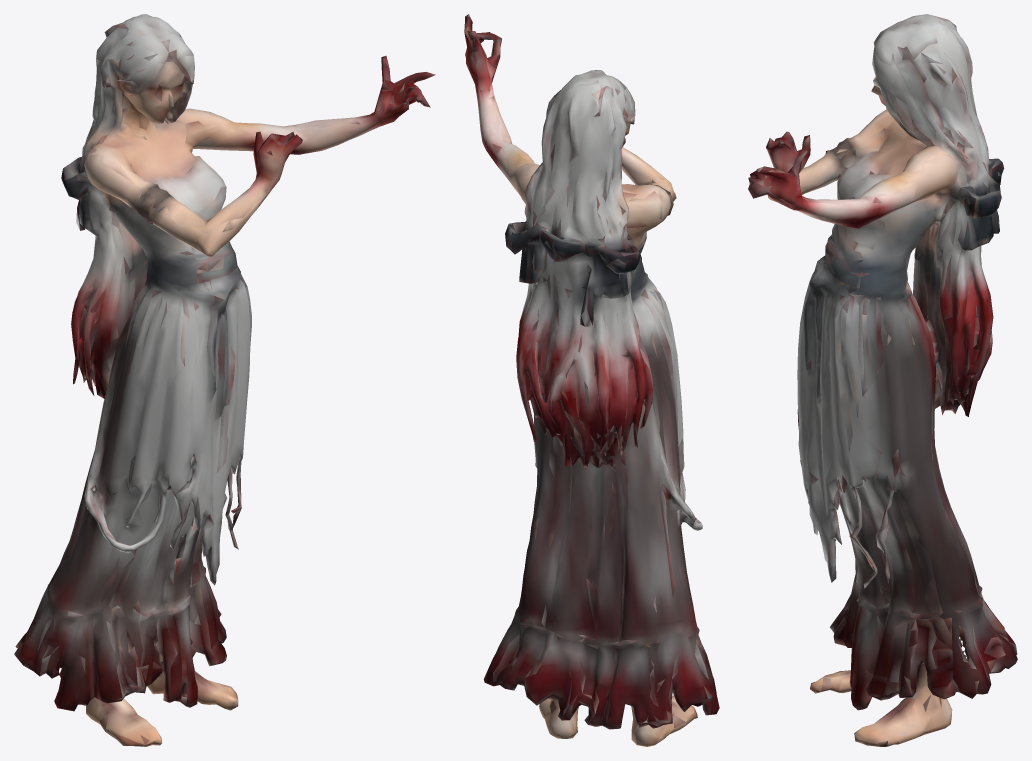
Rendered from Blood Hag (2)_final.glb.
The picture shows the model from 3 angles, left to right: view 1: azimuth 30°, elevation 25°; view 2: azimuth 150°, elevation 25°; view 3: azimuth 270°, elevation 25°; orthographic projection. The views are drawn at different scales.
Visible parts, largest first — view 1: Mesh1.0; view 2: Mesh1.0; view 3: Mesh1.0.
Boxes of the visible parts, left/top/right/bottom form: Mesh1.0: left=14, top=14, right=435, bottom=746; Mesh1.0: left=464, top=14, right=719, bottom=746; Mesh1.0: left=748, top=14, right=1017, bottom=746.
Bounding box in the file's own units: 1.03 × 2 × 0.7011.
1 material, 1 textured.
